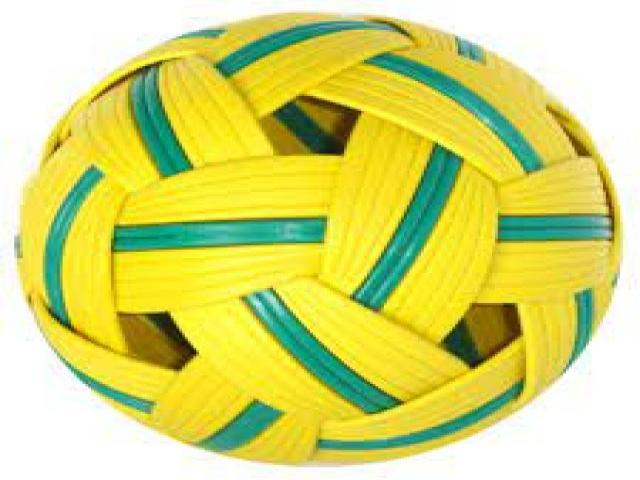round ball: (19, 14, 620, 463)
